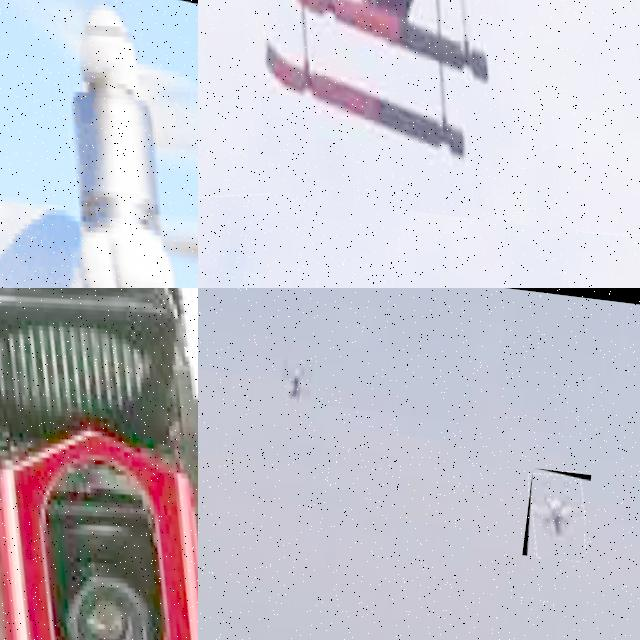drone: (198, 0, 640, 246), (0, 288, 198, 640), (0, 0, 198, 288), (522, 468, 592, 562)
